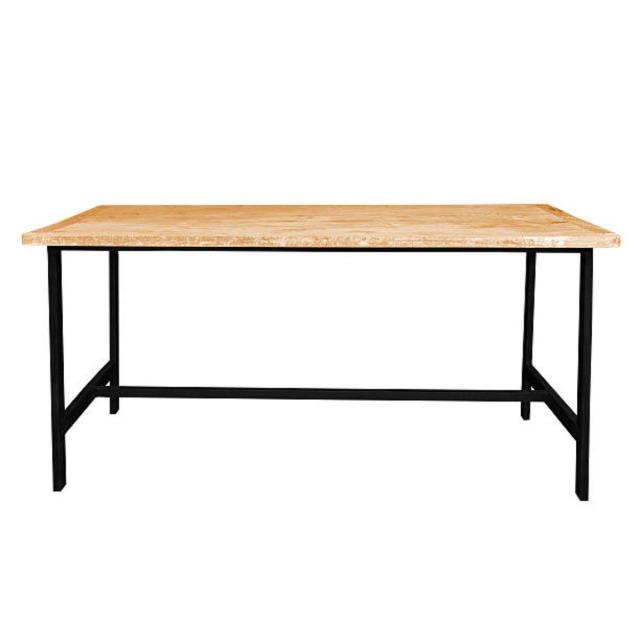table: (17, 173, 628, 516)
